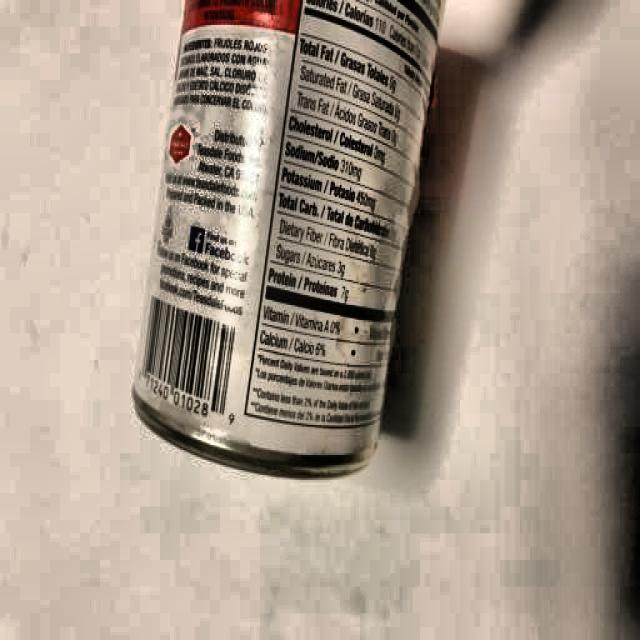metal: (146, 2, 415, 480)
